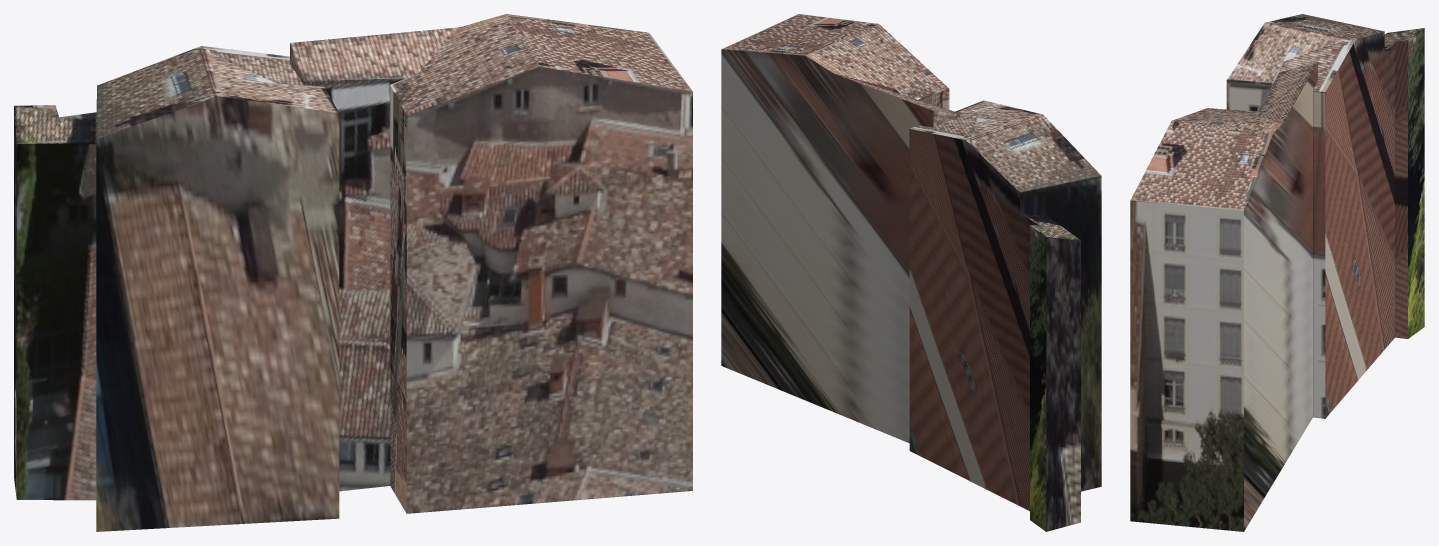
3 views of the same model, side by side, from view 1: azimuth 30°, elevation 25°; view 2: azimuth 150°, elevation 25°; view 3: azimuth 270°, elevation 25° (orthographic). The views are drawn at different scales.
Visible parts, largest first — view 1: Z_UP; view 2: Z_UP; view 3: Z_UP.
Boxes of the visible parts, x1,y1,x2,y2 form: Z_UP: (14, 14, 692, 531); Z_UP: (721, 14, 1101, 531); Z_UP: (1130, 14, 1424, 531).
Bounding box in the file's own units: 31.49 × 24.17 × 18.38.
2 materials, 1 textured.
